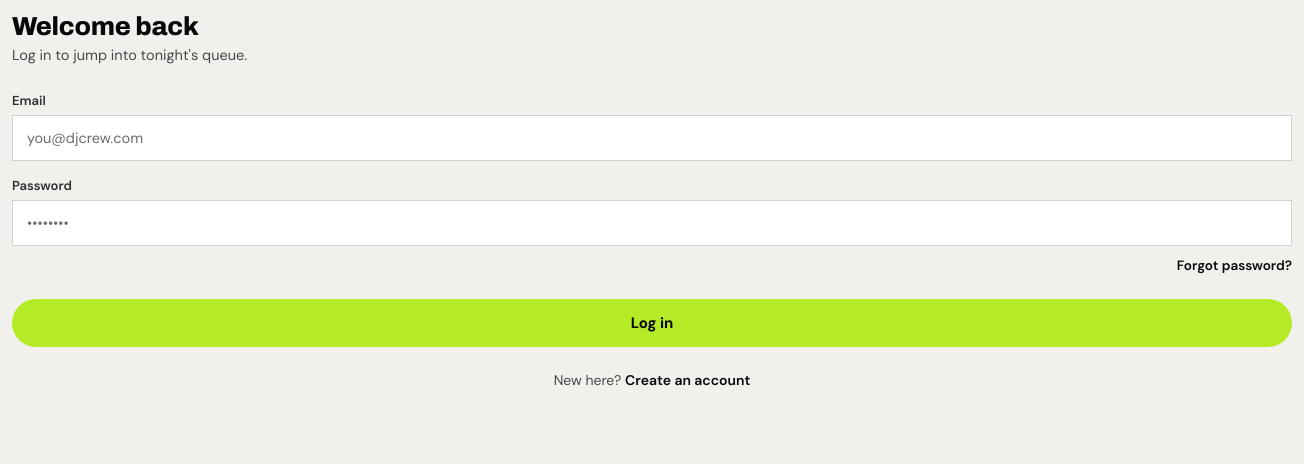
Scenario: LoginForm › renders the message from a failed action result
The width and height of the screenshot is (1304, 464).
In the field labelled "Email": (652, 138) [12,115,1292,161], type "dj@example.com"
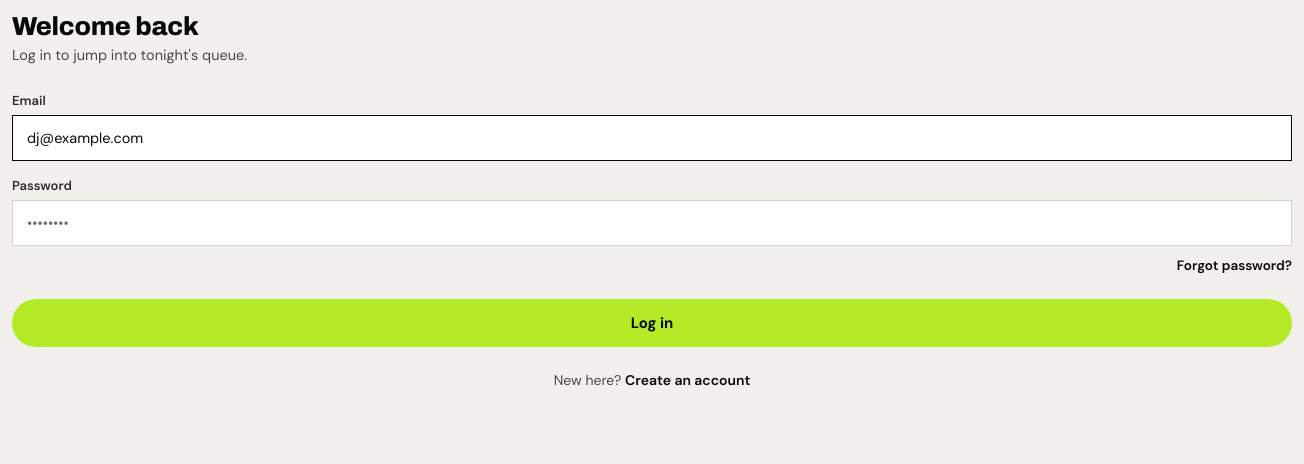
In the password field labelled "Password": (652, 223) [12,200,1292,246], type "password123"
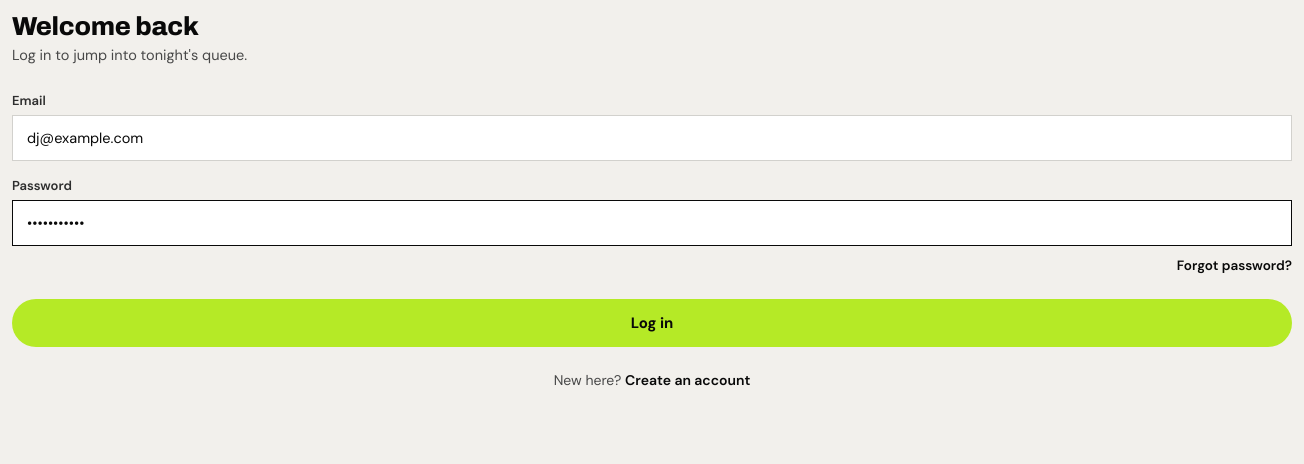
Click the button "Log in": (652, 323) [12,299,1292,347]
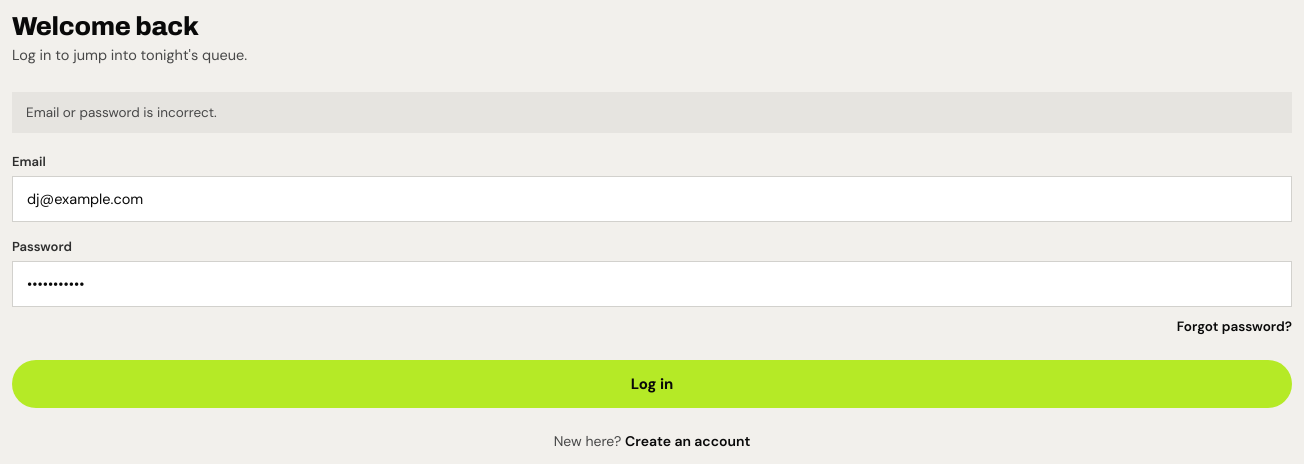
expect the text "Email or password is incorrect." is shown: met, box [12,92,1292,133]
